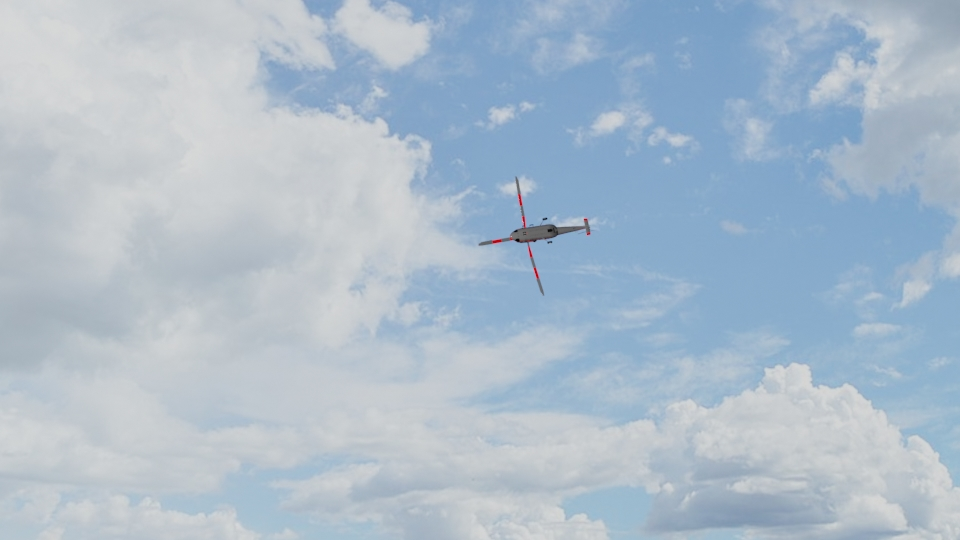heli: (480, 176, 589, 295)
